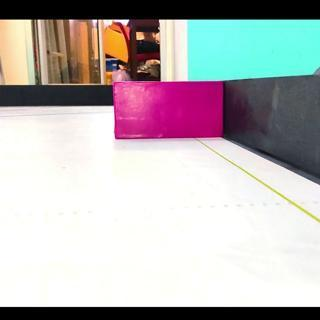xparking: (113, 82, 220, 138)
